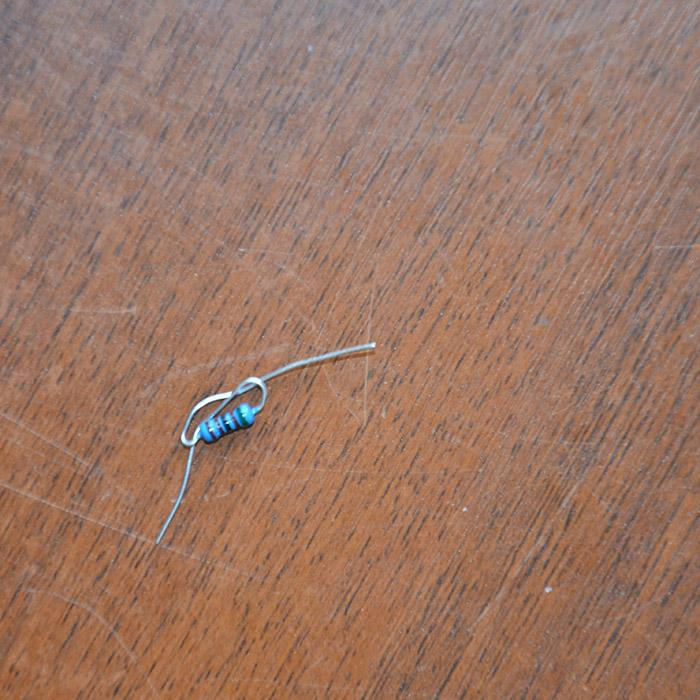resistor: (194, 400, 256, 444)
